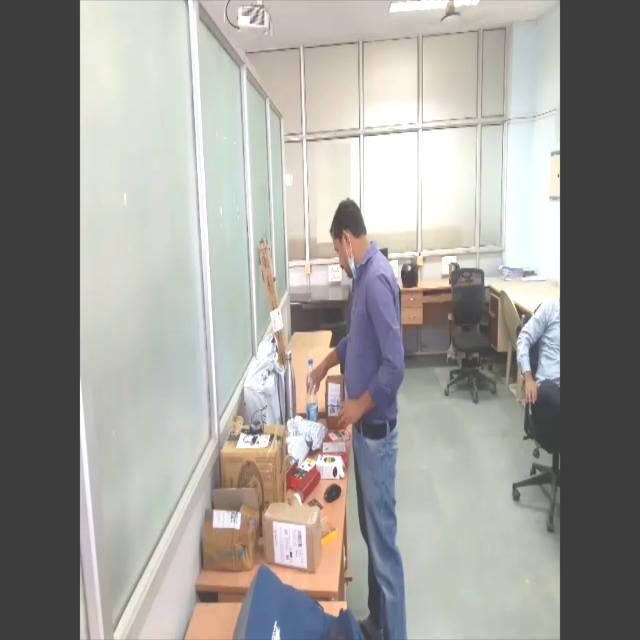normal: (303, 177, 430, 640)
